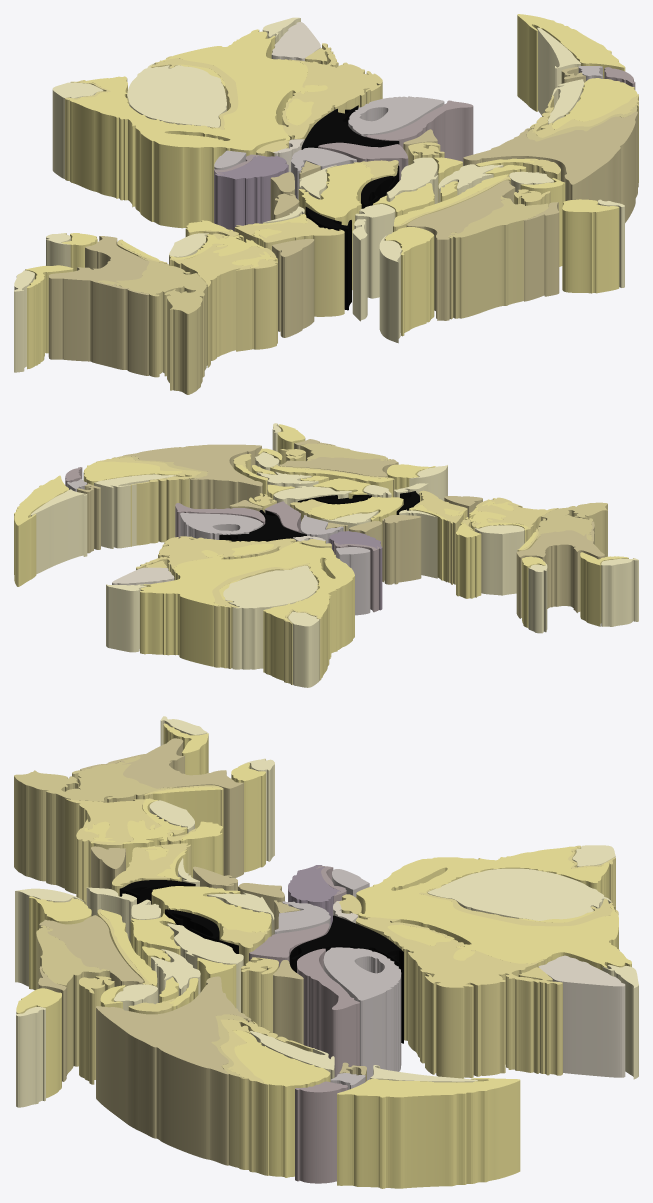
3 views of the same model, one above another, from view 1: azimuth 30°, elevation 25°; view 2: azimuth 150°, elevation 25°; view 3: azimuth 270°, elevation 25° (orthographic). The views are drawn at different scales.
Visible parts, largest first — view 1: imagetostl_mesh0, imagetostl_mesh1, imagetostl_mesh112, imagetostl_mesh130, imagetostl_mesh48, imagetostl_mesh128, imagetostl_mesh75, imagetostl_mesh18, imagetostl_mesh109, imagetostl_mesh47, imagetostl_mesh108, imagetostl_mesh114 (+49 smaller); view 2: imagetostl_mesh0, imagetostl_mesh1, imagetostl_mesh86, imagetostl_mesh52, imagetostl_mesh75, imagetostl_mesh112, imagetostl_mesh109, imagetostl_mesh116, imagetostl_mesh82, imagetostl_mesh96, imagetostl_mesh78, imagetostl_mesh47 (+47 smaller); view 3: imagetostl_mesh6, imagetostl_mesh46, imagetostl_mesh1, imagetostl_mesh108, imagetostl_mesh75, imagetostl_mesh156, imagetostl_mesh109, imagetostl_mesh128, imagetostl_mesh47, imagetostl_mesh152, imagetostl_mesh150, imagetostl_mesh140 (+54 smaller).
Boxes of the visible parts, x1,y1,x2,y2 form: imagetostl_mesh0: [69, 30, 307, 228]; imagetostl_mesh1: [69, 29, 327, 150]; imagetostl_mesh112: [48, 236, 148, 375]; imagetostl_mesh130: [449, 216, 535, 319]; imagetostl_mesh48: [170, 244, 277, 367]; imagetostl_mesh128: [119, 256, 207, 394]; imagetostl_mesh75: [127, 63, 226, 127]; imagetostl_mesh18: [562, 203, 619, 293]; imagetostl_mesh109: [463, 111, 637, 184]; imagetostl_mesh47: [278, 43, 382, 138]; imagetostl_mesh108: [463, 113, 637, 222]; imagetostl_mesh114: [272, 240, 314, 337]; imagetostl_mesh0: [140, 542, 354, 680]; imagetostl_mesh1: [140, 541, 354, 620]; imagetostl_mesh86: [31, 494, 87, 574]; imagetostl_mesh52: [96, 457, 191, 546]; imagetostl_mesh75: [223, 565, 317, 608]; imagetostl_mesh112: [516, 527, 604, 618]; imagetostl_mesh109: [124, 444, 262, 486]; imagetostl_mesh116: [382, 517, 421, 584]; imagetostl_mesh82: [475, 528, 524, 595]; imagetostl_mesh96: [601, 558, 638, 626]; imagetostl_mesh78: [94, 476, 175, 548]; imagetostl_mesh47: [136, 536, 295, 571]; imagetostl_mesh6: [337, 1079, 520, 1188]; imagetostl_mesh46: [356, 917, 562, 1078]; imagetostl_mesh1: [356, 846, 631, 967]; imagetostl_mesh108: [96, 983, 251, 1165]; imagetostl_mesh75: [427, 868, 611, 920]; imagetostl_mesh156: [538, 967, 625, 1077]; imagetostl_mesh109: [96, 976, 251, 1074]; imagetostl_mesh128: [14, 773, 175, 888]; imagetostl_mesh47: [356, 917, 562, 987]; imagetostl_mesh152: [295, 1087, 347, 1183]; imagetostl_mesh150: [297, 950, 359, 1077]; imagetostl_mesh140: [323, 956, 401, 1080].
Bounding box in the file's own units: 89.61 × 10 × 62.05.
